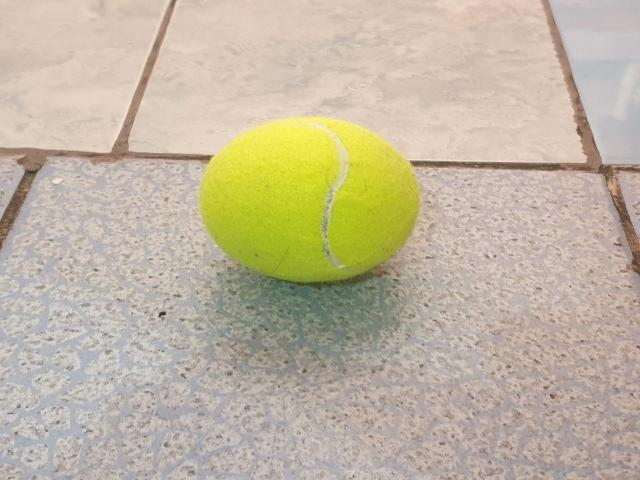tennis-ball: (197, 114, 421, 284)
